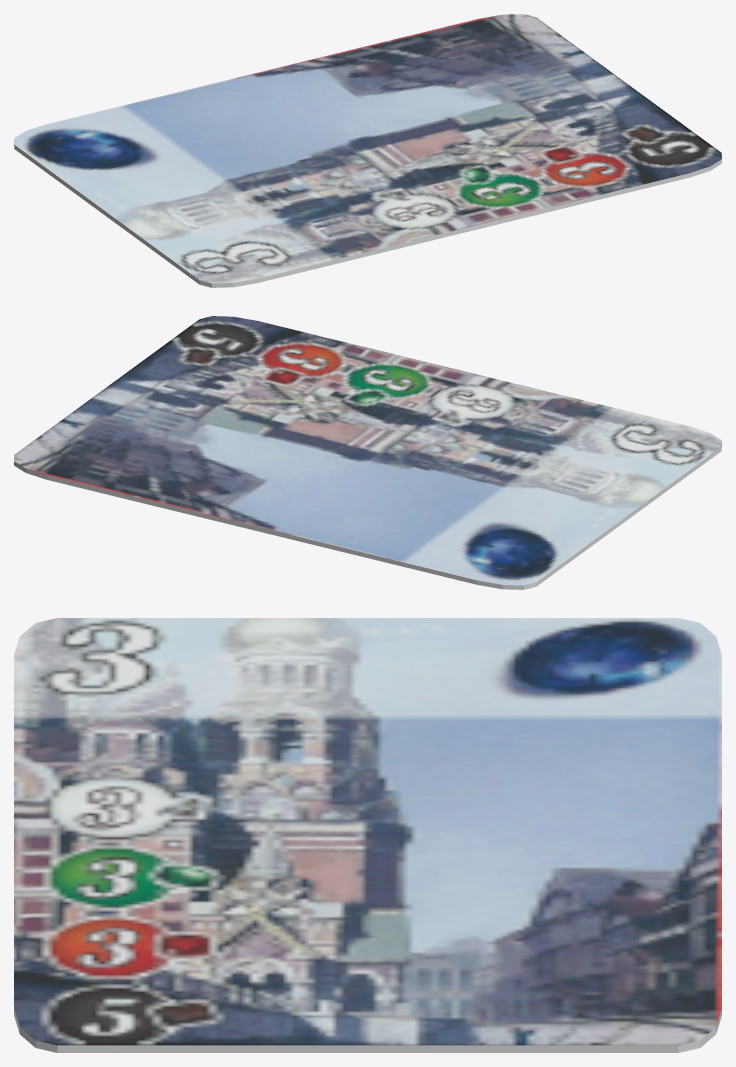
3 renders of one model, top to bottom at view 1: azimuth 30°, elevation 25°; view 2: azimuth 150°, elevation 25°; view 3: azimuth 270°, elevation 25°, orthographic. The views are drawn at different scales.
Parts seen in each view (by area): view 1: Card1; view 2: Card1; view 3: Card1.
Part boxes in pixels (box(x1,y1,x2,y2)): Card1: box(14, 14, 721, 287); Card1: box(14, 316, 721, 589); Card1: box(14, 618, 721, 1052).
Size of the model in its own units: 700 by 5.74 by 490.
